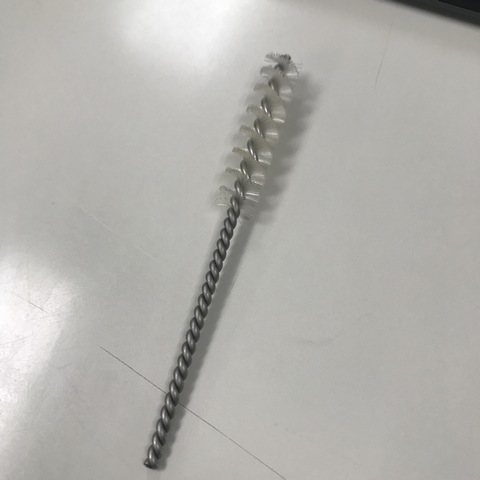Twist Brush-B: (141, 51, 312, 475)
